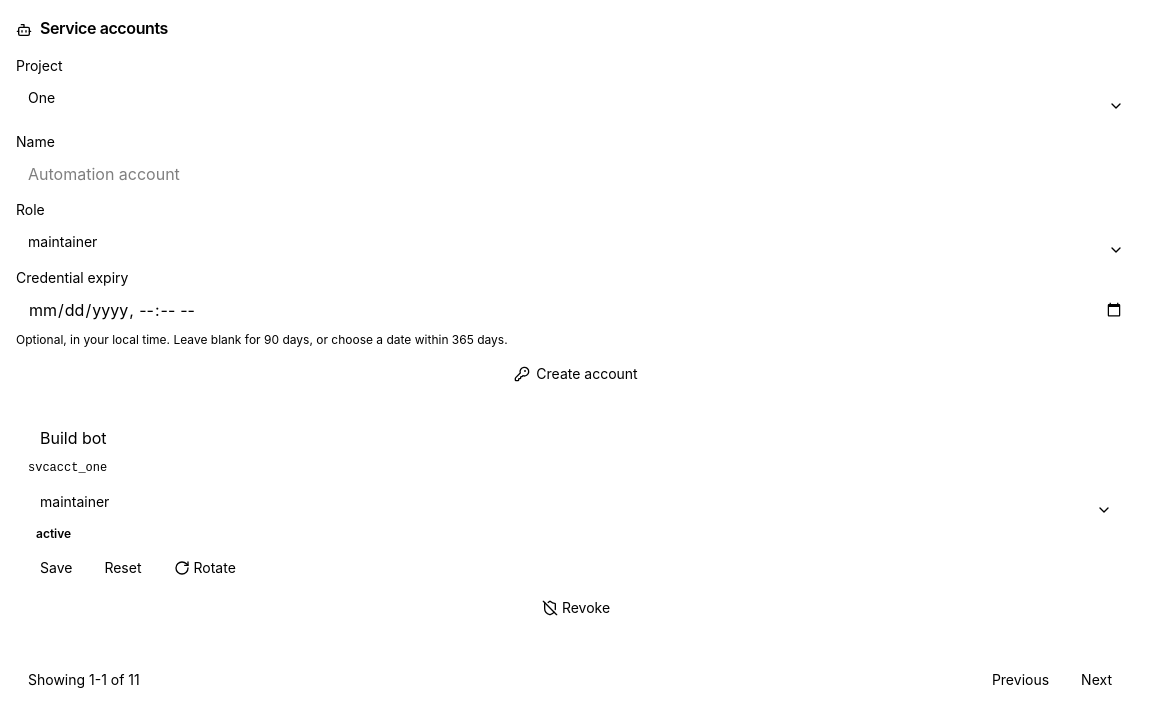
Test case: service account pagination recovers empty later pages through shared navigation
Expected: the field named "Name for Build bot" is shown, [28,420,1124,456]
Click the button with aria-label "Next accounts": x=1097, y=680 [1069,664,1124,696]
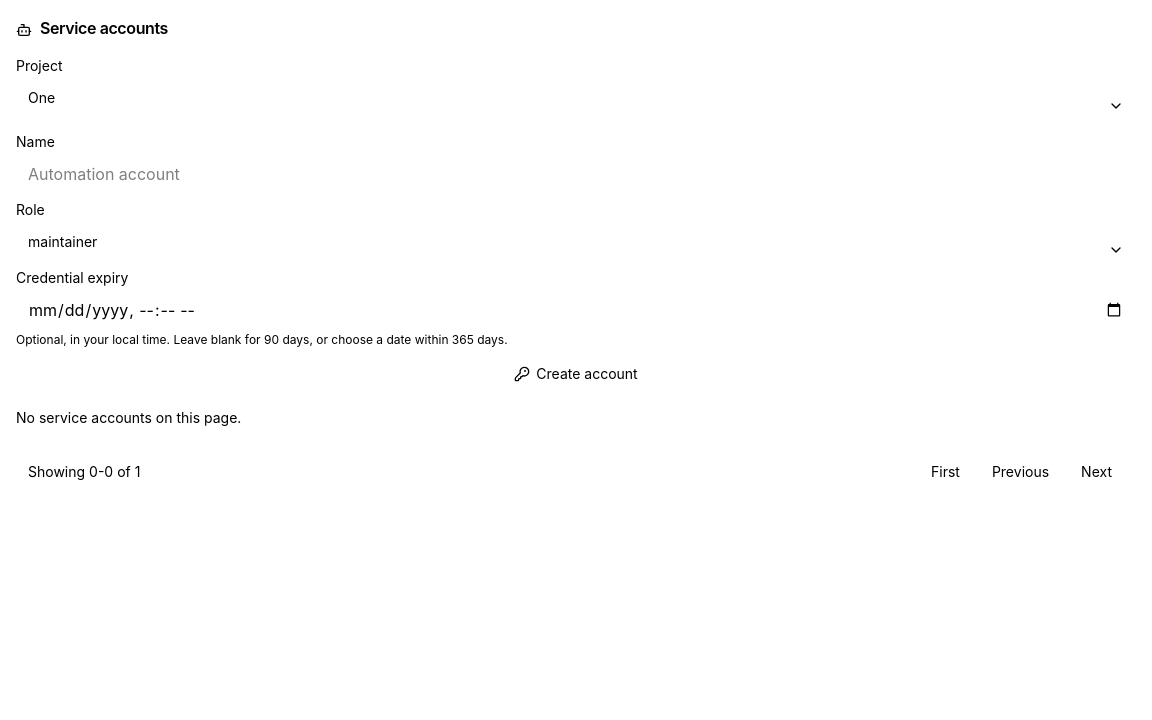
Expected: the text "Showing 0-0 of 1" is shown, [28,462,140,482]
Expected: the button with aria-label "Next accounts" is disabled, [1069,456,1124,488]
Click the button with aria-label "First accounts page": x=945, y=472 [919,456,972,488]
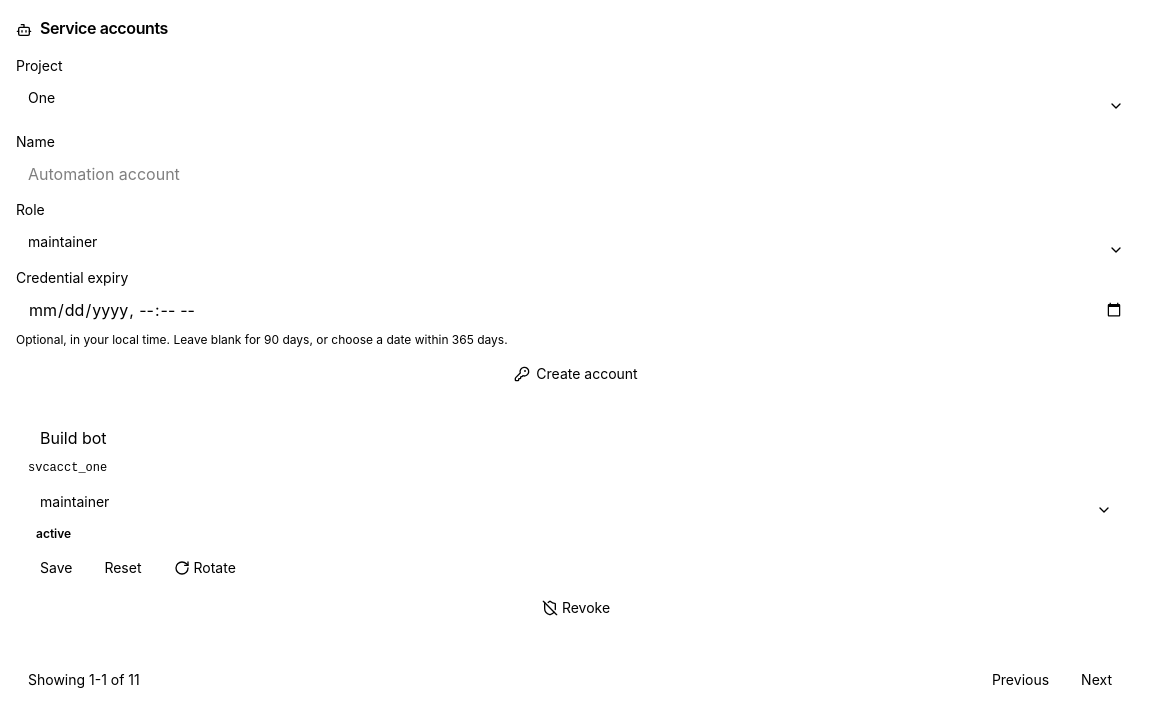
Expected: the field named "Name for Build bot" is shown, [28,420,1124,456]
